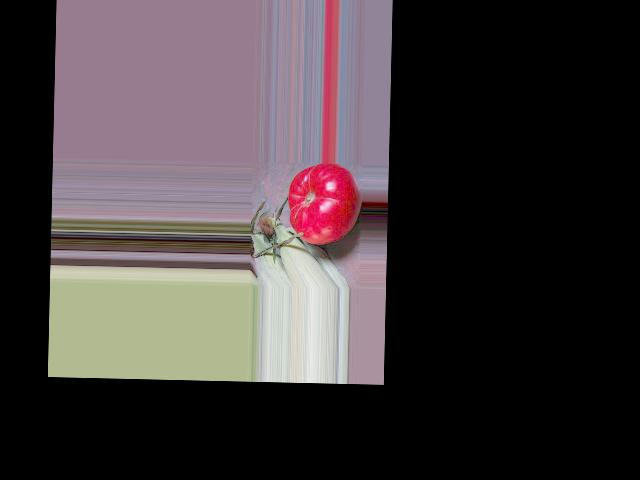tomato: (287, 163, 362, 245)
